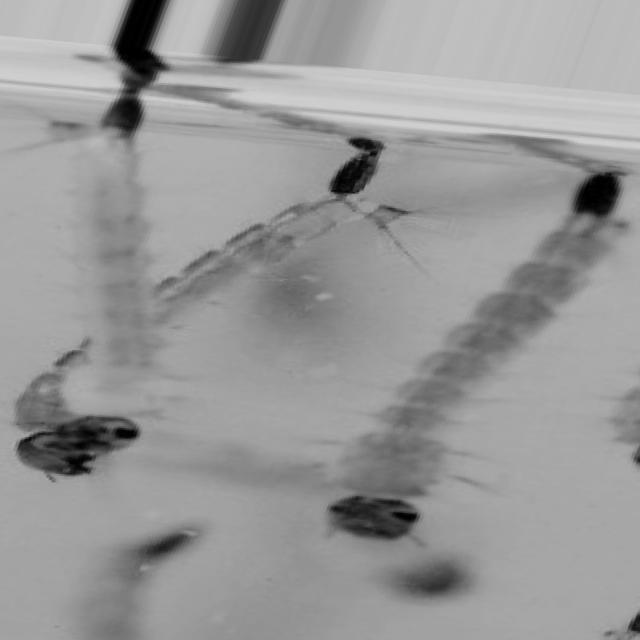larvas: (313, 174, 640, 561), (158, 138, 384, 346), (74, 130, 164, 455), (113, 528, 193, 580), (411, 540, 454, 589)
